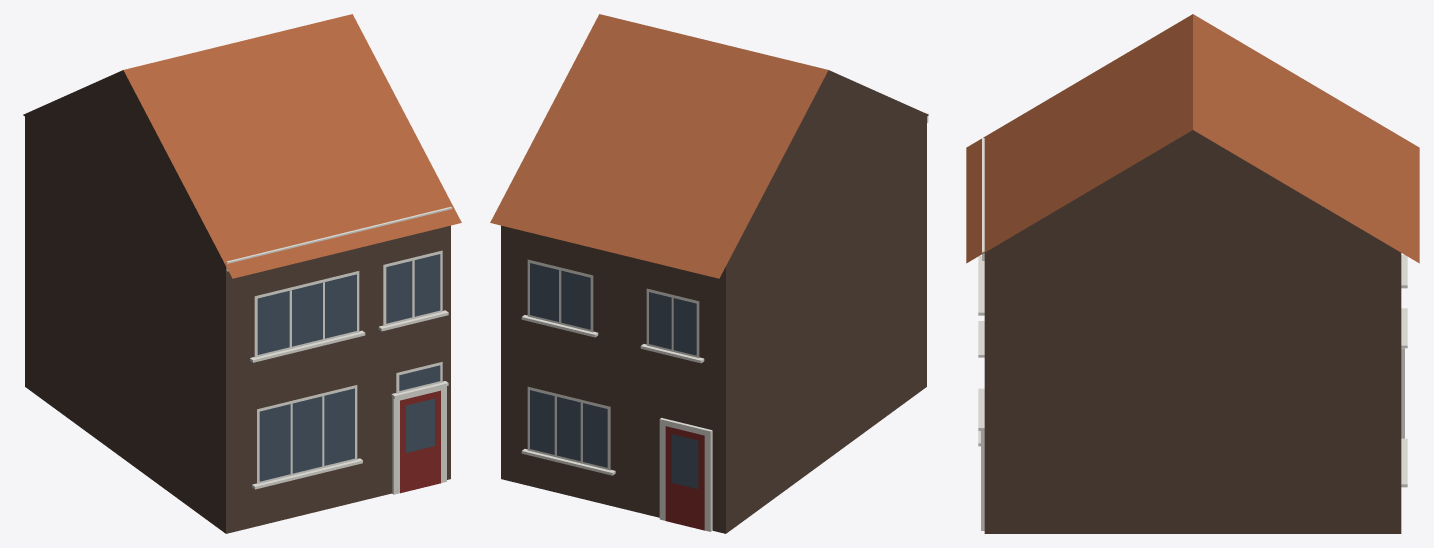
Rendered from nd-to-row__wide-orange__2__gable__long__solid__f0d0__mirror.glb.
3 views of the same model, side by side, from view 1: azimuth 30°, elevation 25°; view 2: azimuth 150°, elevation 25°; view 3: azimuth 270°, elevation 25° (orthographic). The views are drawn at different scales.
Visible parts, largest first — view 1: nd-to-row__wide-orange__2__gable__long__solid__f0d0__mirror; view 2: nd-to-row__wide-orange__2__gable__long__solid__f0d0__mirror; view 3: nd-to-row__wide-orange__2__gable__long__solid__f0d0__mirror.
Boxes of the visible parts, x1=… form: nd-to-row__wide-orange__2__gable__long__solid__f0d0__mirror: x1=23, y1=14, x2=461, y2=533; nd-to-row__wide-orange__2__gable__long__solid__f0d0__mirror: x1=490, y1=14, x2=928, y2=533; nd-to-row__wide-orange__2__gable__long__solid__f0d0__mirror: x1=966, y1=14, x2=1419, y2=533.
Bounding box in the file's own units: 5.3 × 8.64 × 8.75.
